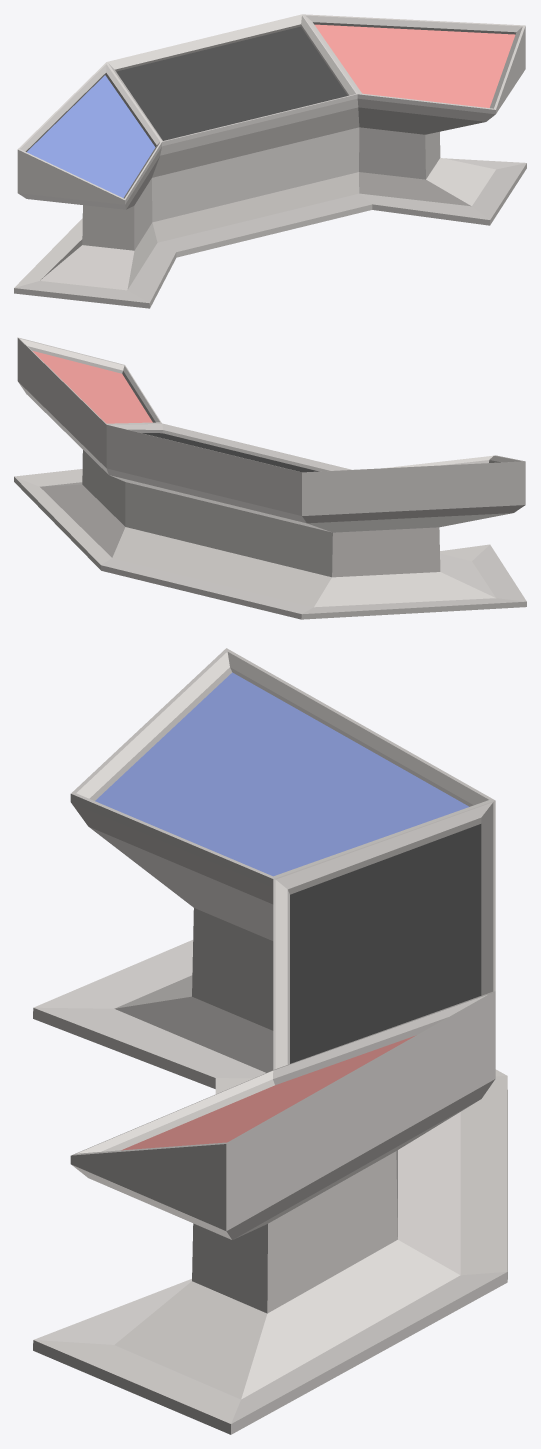
Rendered from controlPanel.fbx.
3 views of the same model, one above another, from view 1: azimuth 30°, elevation 25°; view 2: azimuth 150°, elevation 25°; view 3: azimuth 270°, elevation 25° (orthographic). The views are drawn at different scales.
Visible parts, largest first — view 1: Cube; view 2: Cube; view 3: Cube.
Part boxes in pixels (box(x1,y1,x2,y2)): Cube: box(14, 14, 526, 308); Cube: box(14, 337, 526, 619); Cube: box(33, 648, 507, 1434).
Size of the model in its own units: 529 by 142 by 212.
